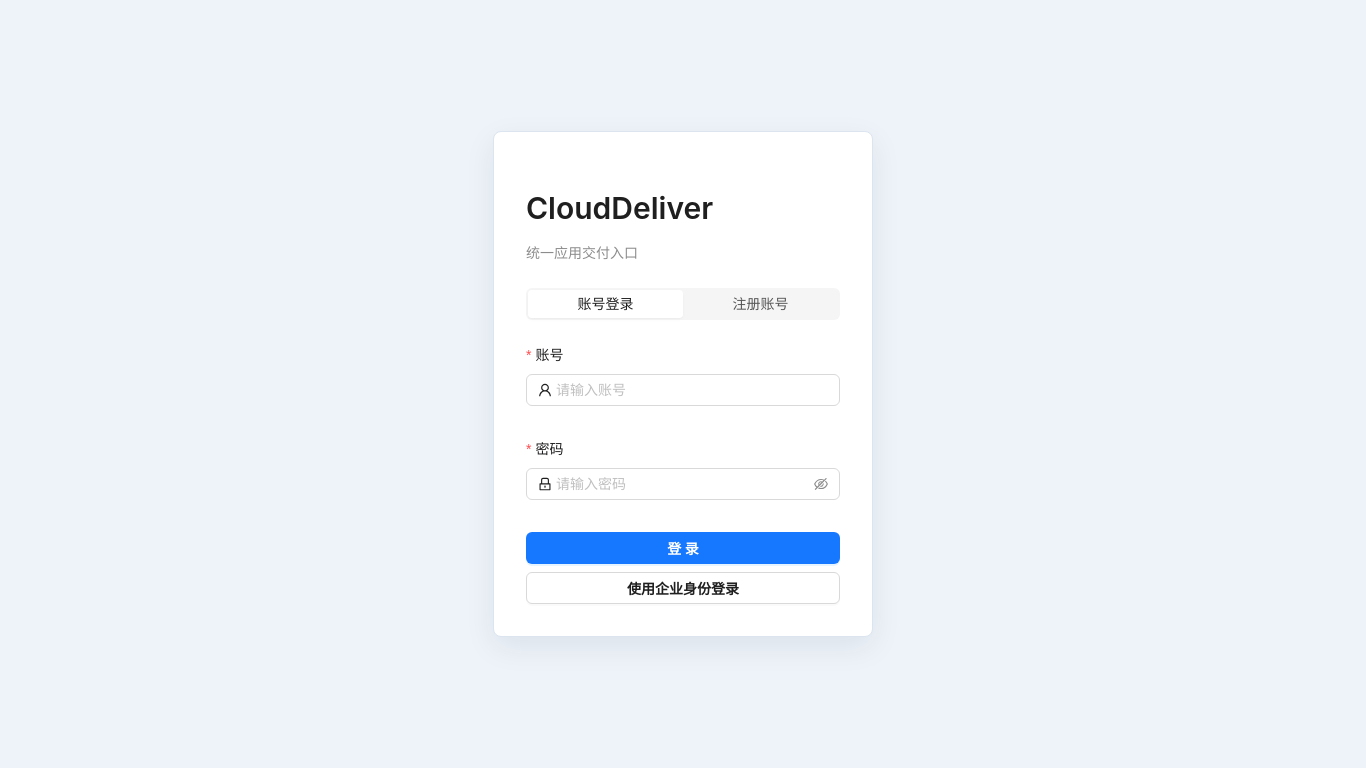
本地用户登录后可以进入项目工作台列表
In the field with placeholder "请输入账号": (692, 390) [556,379,828,401], type "admin"
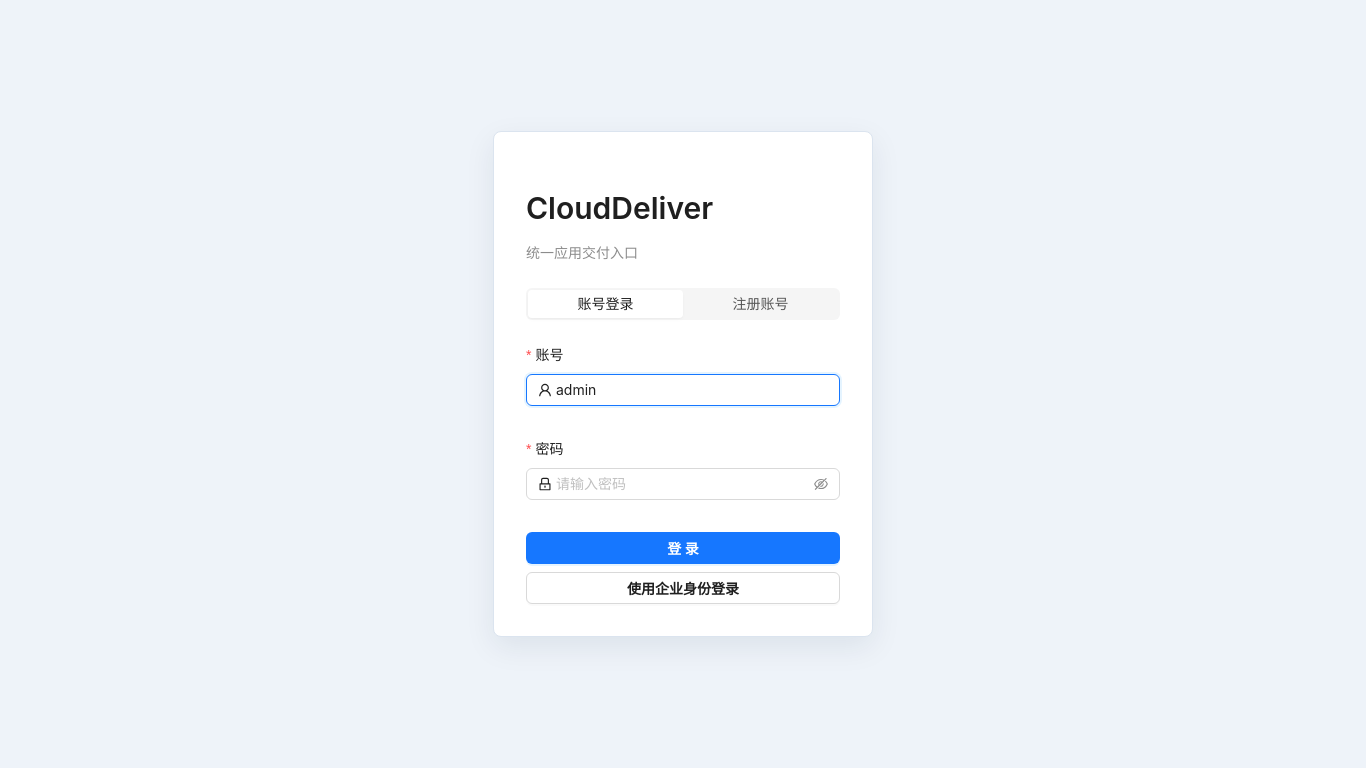
In the password field with placeholder "请输入密码": (683, 484) [556,473,810,495], type "password"
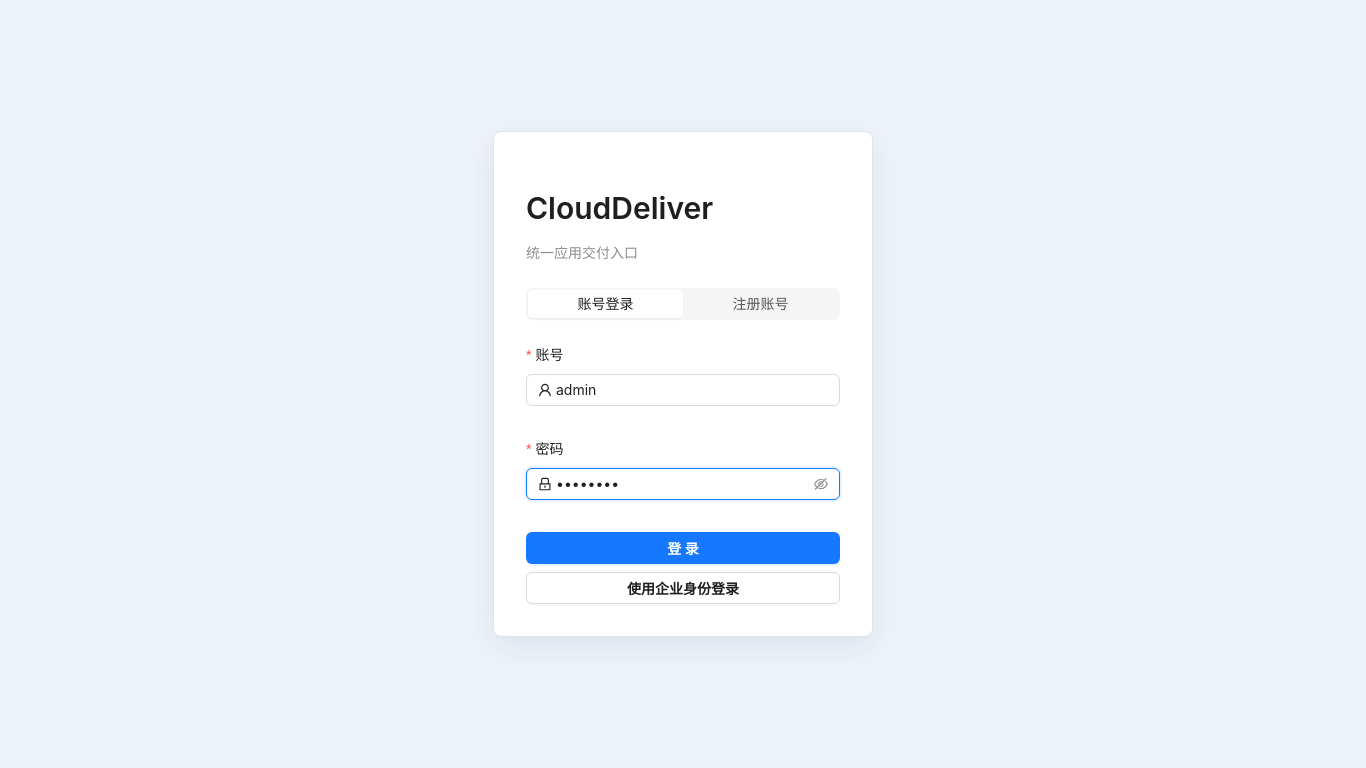
Click the button "登 录": (683, 548) [526,532,840,564]
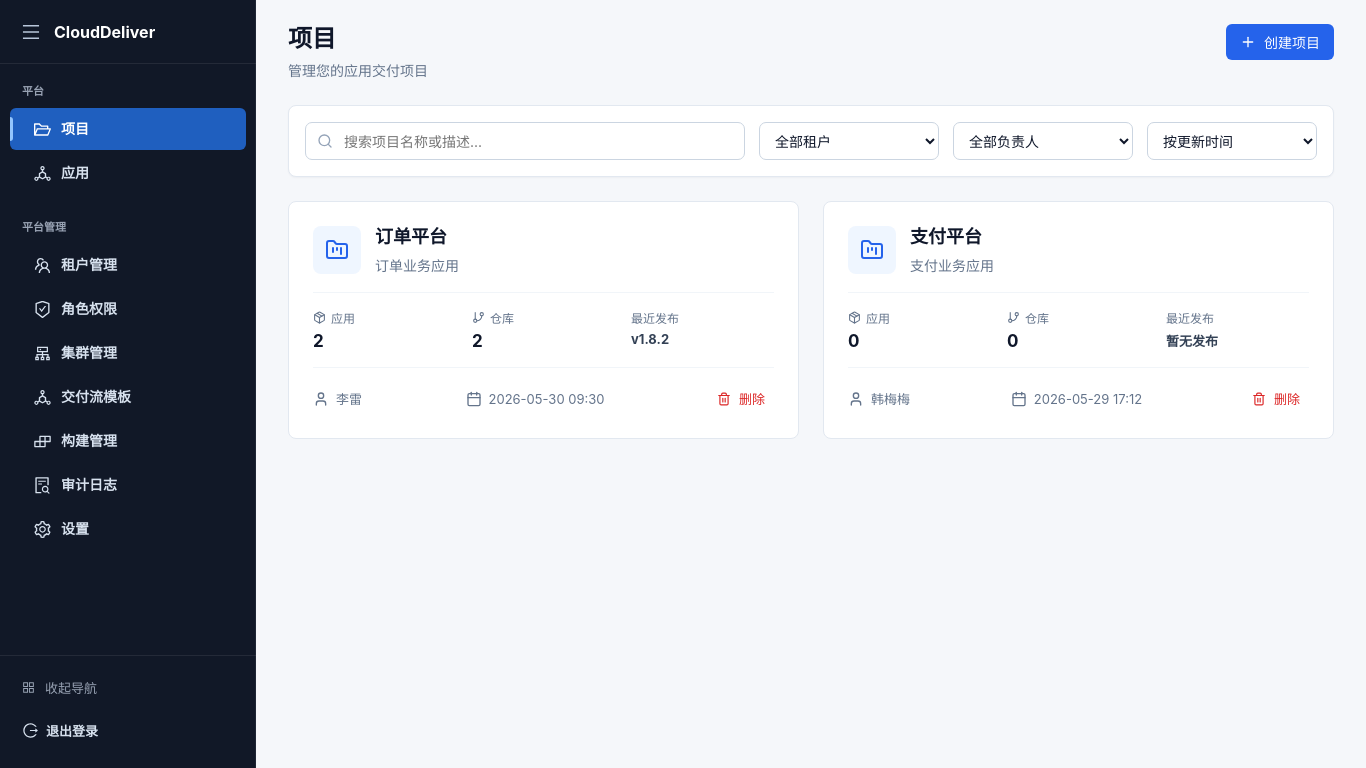
Expected: the heading "订单平台" is shown, [375,226,459,248]
